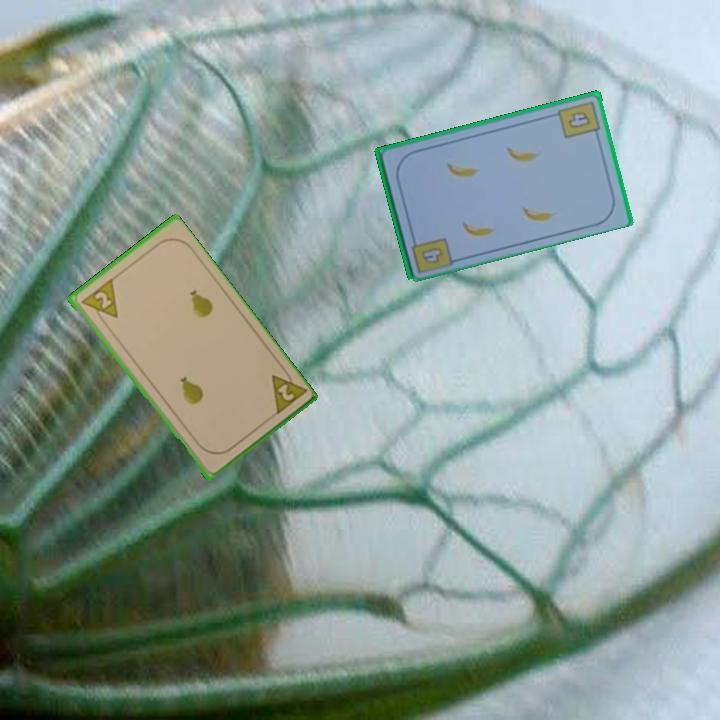2p: (77, 276, 121, 328), (267, 363, 308, 418)
4b: (554, 97, 602, 141), (418, 243, 446, 267)
